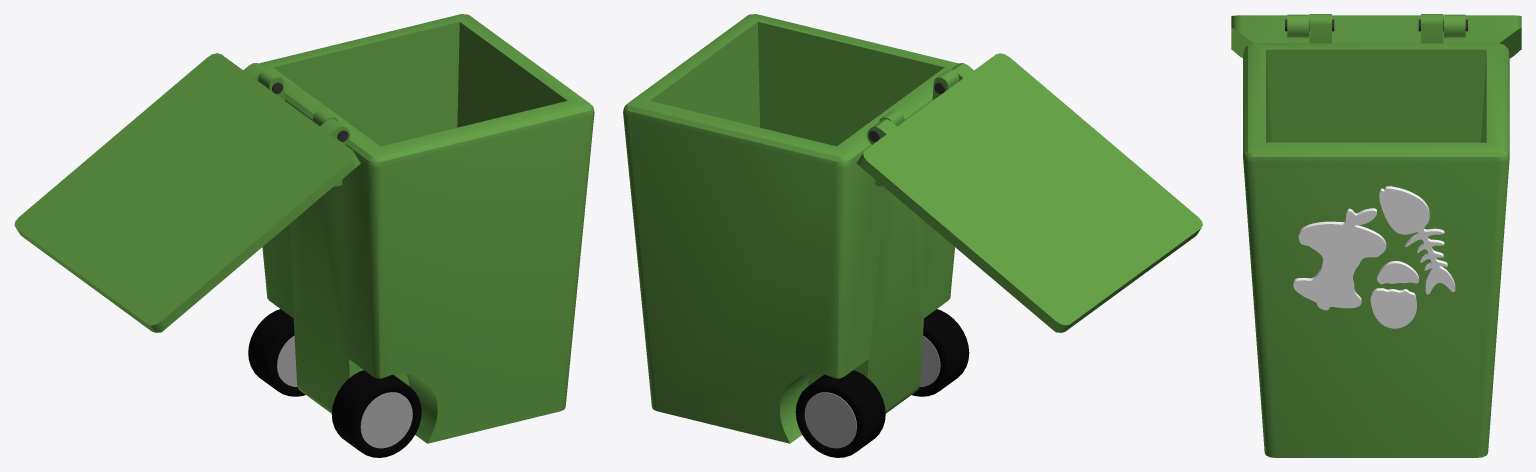
The model's file is Organic_Bin.glb.
The picture shows the model from 3 angles, left to right: view 1: azimuth 30°, elevation 25°; view 2: azimuth 150°, elevation 25°; view 3: azimuth 270°, elevation 25°; orthographic projection. The views are drawn at different scales.
Visible parts, largest first — view 1: Cube004, Cube005, Cylinder008, Cylinder009; view 2: Cube004, Cube005, Cylinder008, Cylinder009; view 3: Cube004, Plane001, Cube005.
Boxes of the visible parts, x1=… form: Cube004: x1=258, y1=14, x2=594, y2=443; Cube005: x1=14, y1=53, x2=360, y2=332; Cylinder008: x1=248, y1=309, x2=421, y2=457; Cylinder009: x1=277, y1=336, x2=412, y2=448; Cube004: x1=623, y1=14, x2=959, y2=443; Cube005: x1=856, y1=53, x2=1202, y2=332; Cylinder008: x1=795, y1=309, x2=969, y2=457; Cylinder009: x1=804, y1=335, x2=940, y2=448; Cube004: x1=1243, y1=14, x2=1509, y2=457; Plane001: x1=1293, y1=186, x2=1455, y2=328; Cube005: x1=1231, y1=14, x2=1521, y2=58.
Size of the model in its own units: 4.8 by 3.38 by 2.6.
